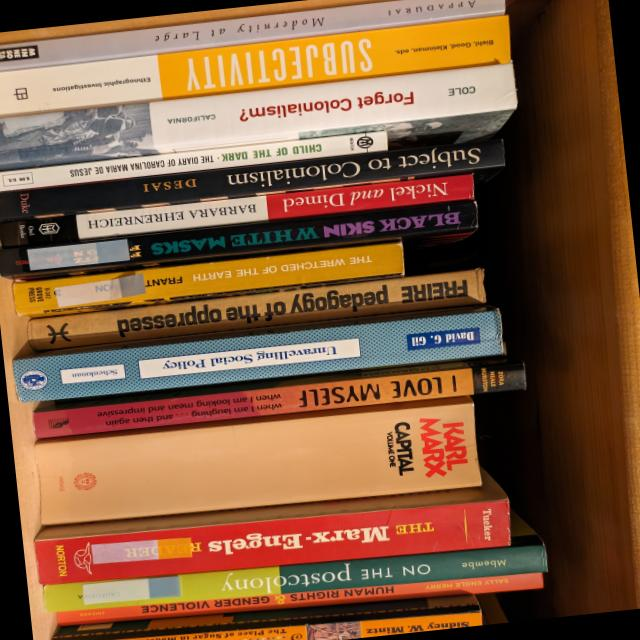book: (0, 61, 519, 190), (31, 468, 511, 595), (32, 395, 480, 527), (0, 11, 511, 122), (11, 304, 503, 405), (42, 533, 546, 624), (31, 354, 525, 440), (0, 139, 504, 222), (0, 199, 479, 280), (25, 268, 486, 352), (0, 172, 473, 249), (0, 0, 504, 72), (12, 241, 405, 318), (56, 571, 543, 628), (50, 583, 481, 640), (0, 130, 388, 191)
